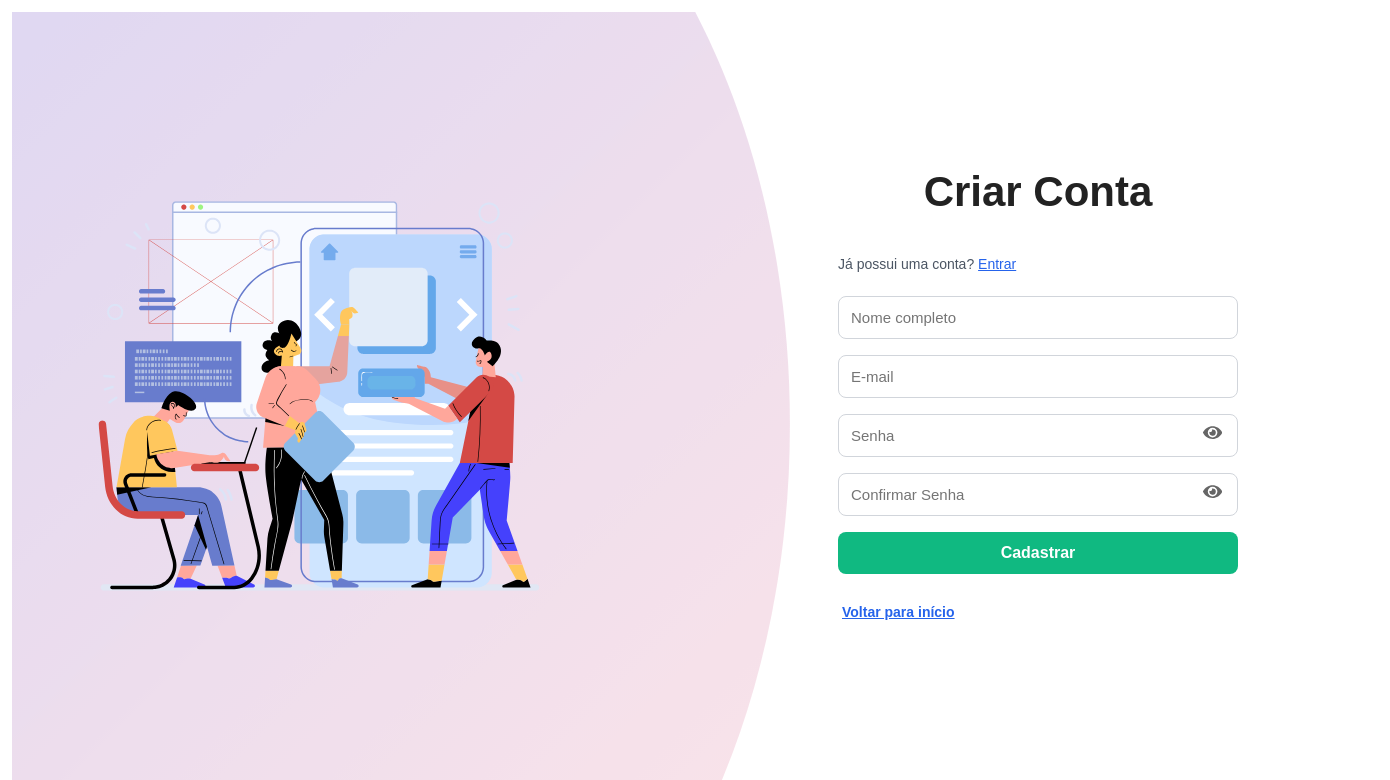
Test: Cadastro › deve mostrar erro geral ao falhar o cadastro
Type "Ana" into the field with placeholder "Nome completo" at (1038, 318), box x1=838 y1=296 x2=1238 y2=339
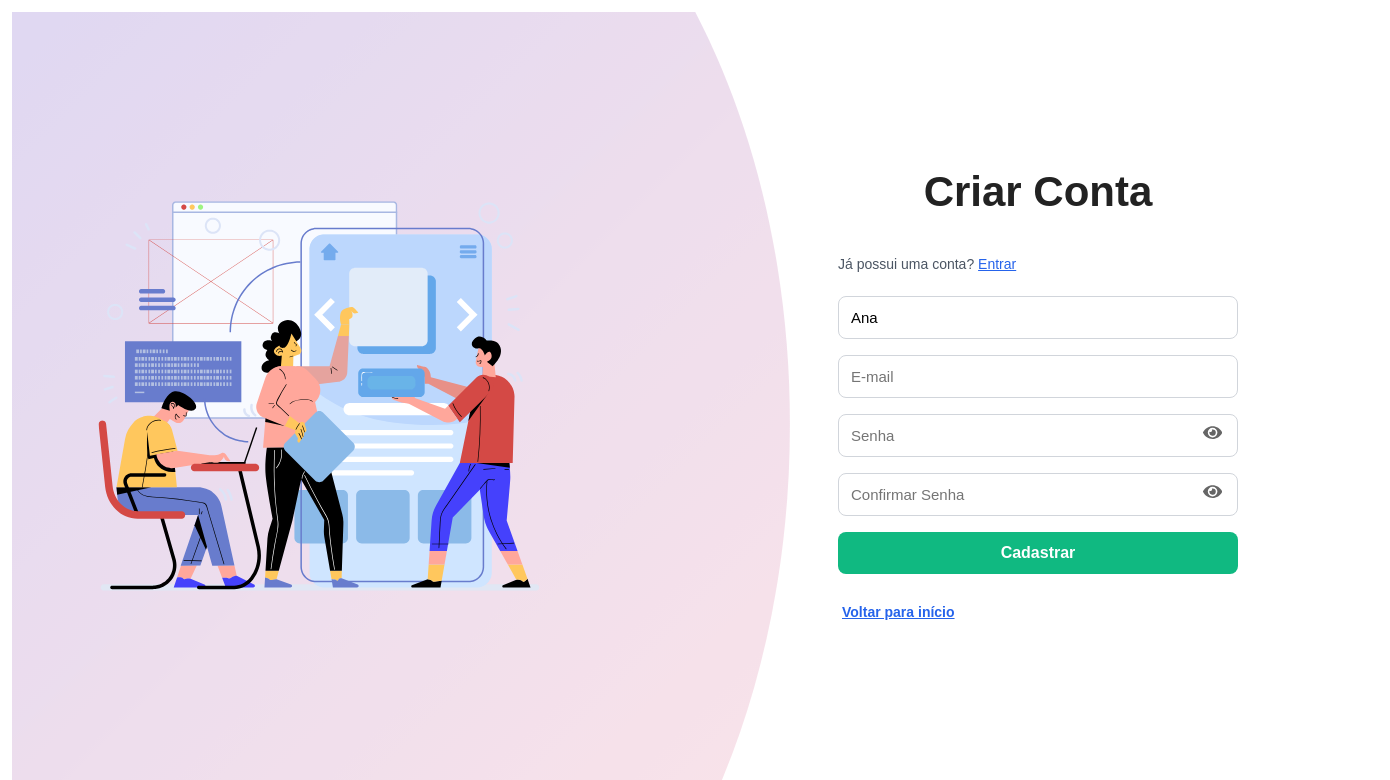
Type "ana@email.com" into the field with placeholder "E-mail" at (1038, 376), box x1=838 y1=355 x2=1238 y2=398
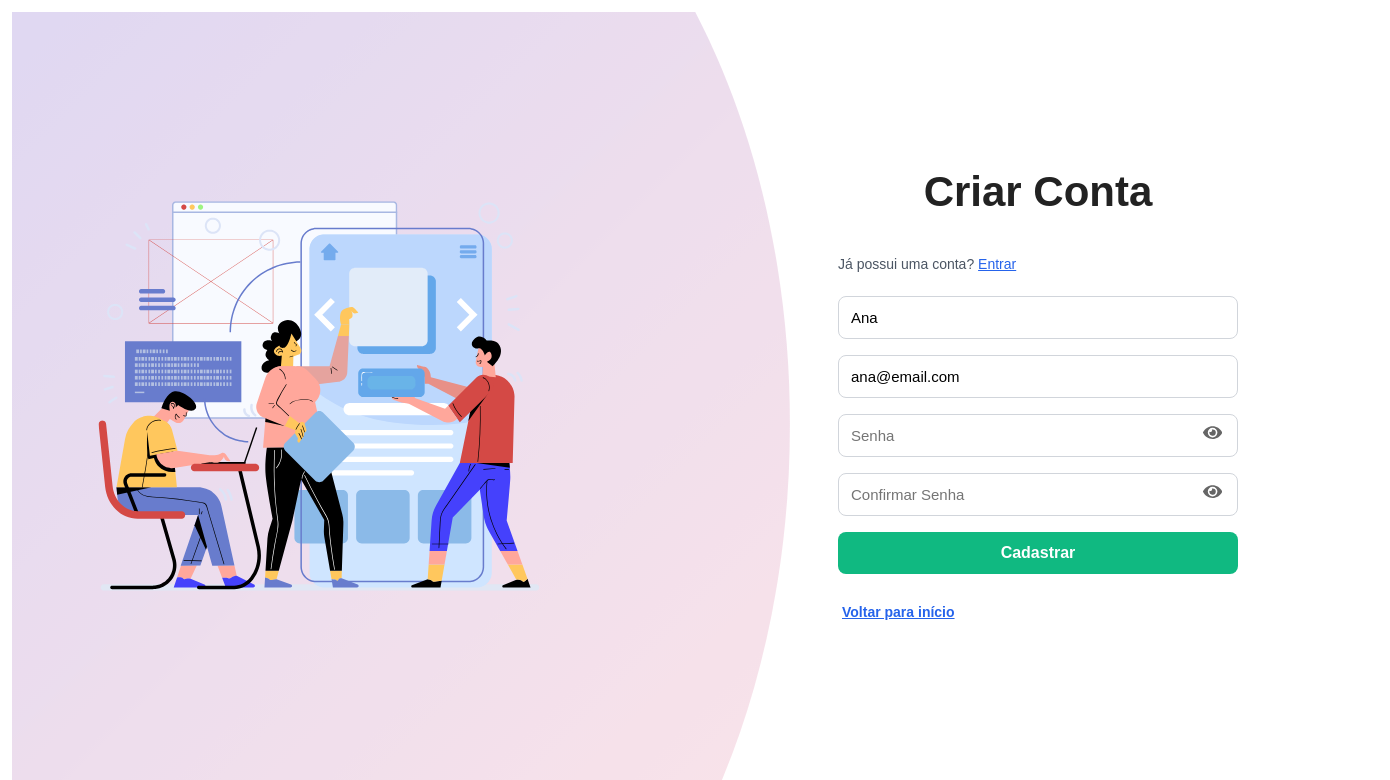
Type "senha123" into the password field with placeholder "Senha" at (1038, 436), box x1=838 y1=414 x2=1238 y2=457
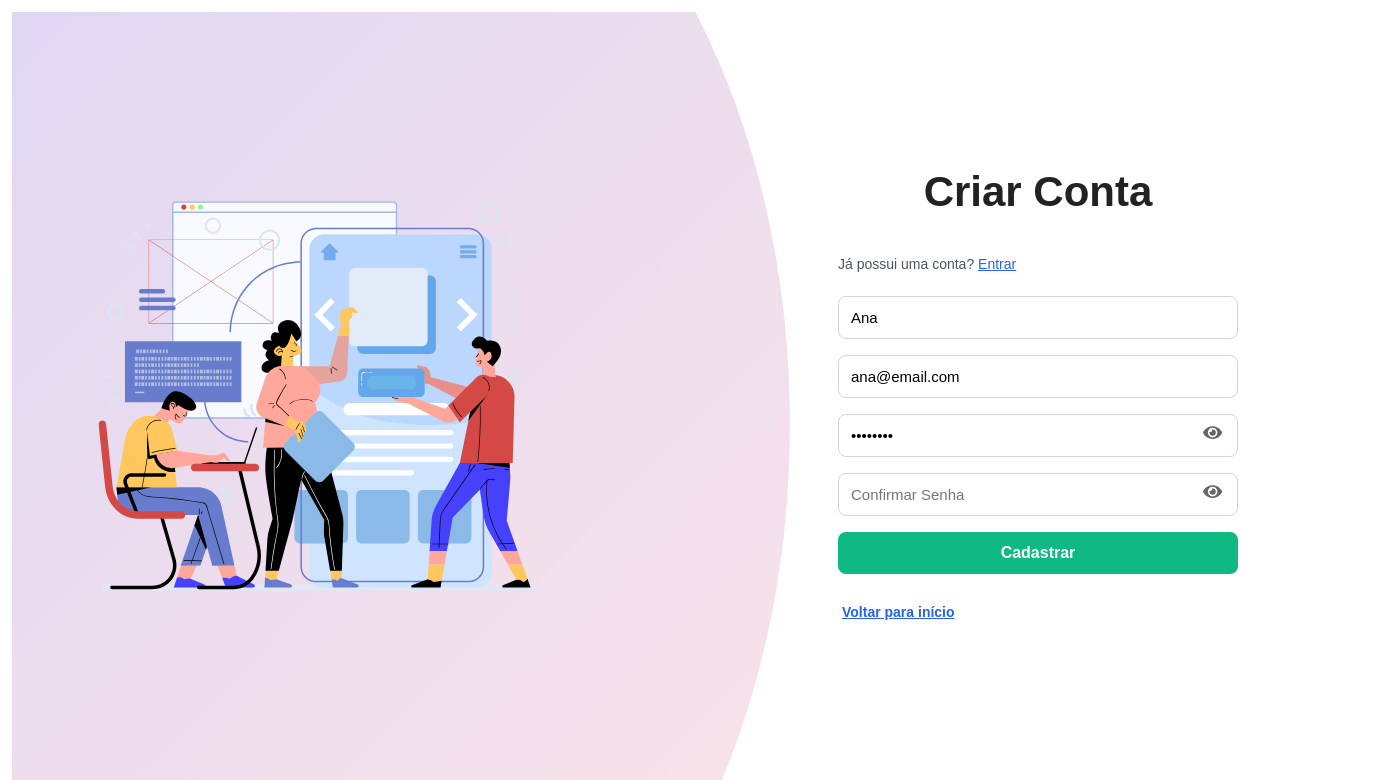
Type "senha123" into the password field with placeholder "Confirmar Senha" at (1038, 494), box x1=838 y1=473 x2=1238 y2=516
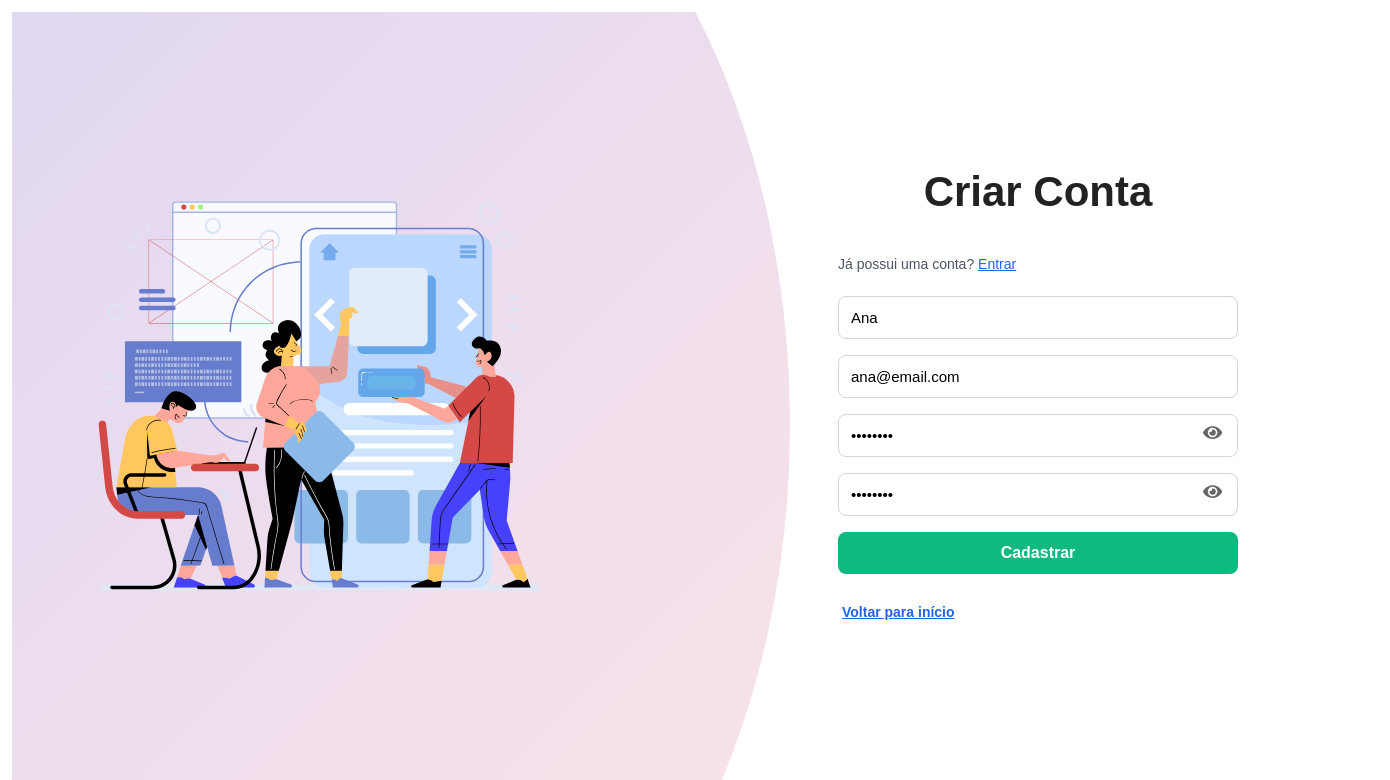
Click the button "Cadastrar" at (1038, 553), box x1=838 y1=532 x2=1238 y2=574
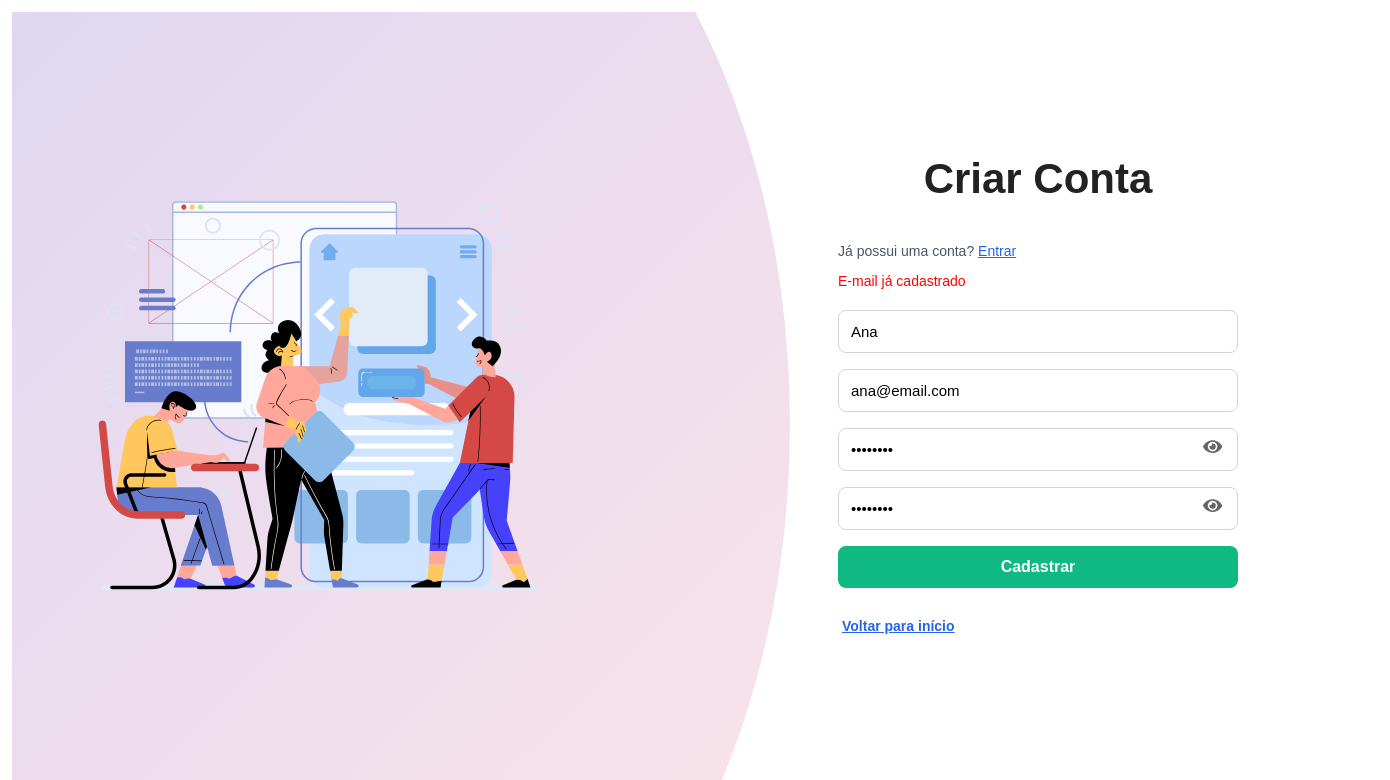
Result: the text "E-mail já cadastrado" is shown at x1=838 y1=272 x2=966 y2=288
